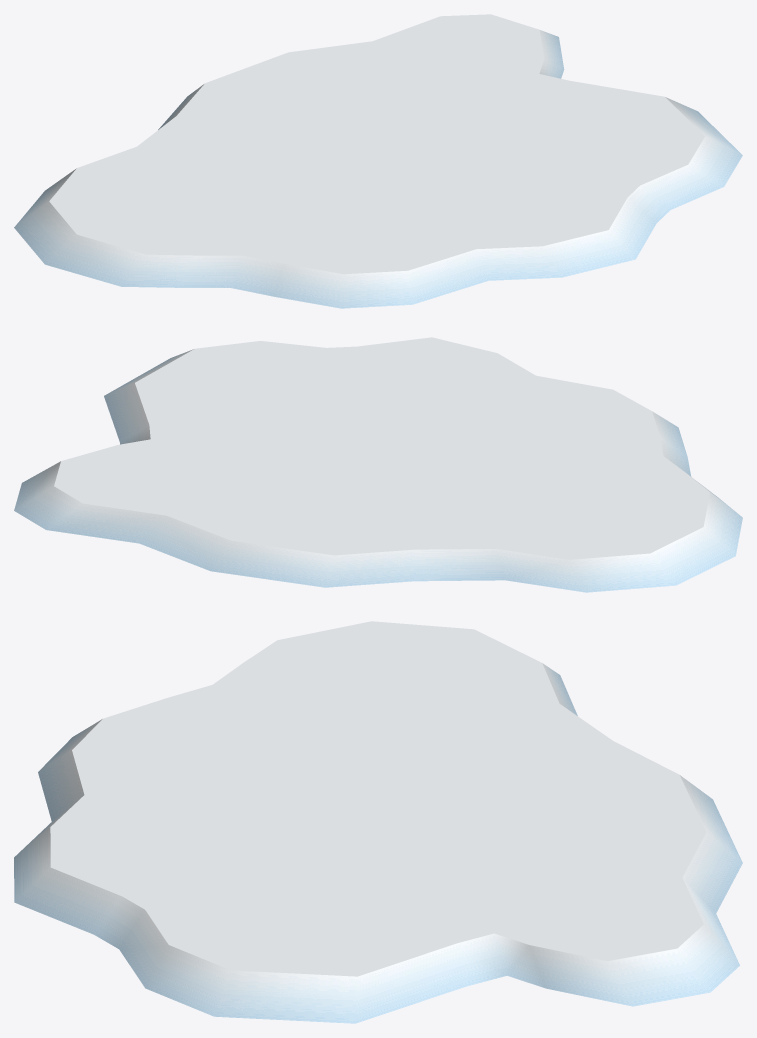
Rendered from snow_flat_large.glb.
3 views of the same model, one above another, from view 1: azimuth 30°, elevation 25°; view 2: azimuth 150°, elevation 25°; view 3: azimuth 270°, elevation 25° (orthographic). The views are drawn at different scales.
Visible parts, largest first — view 1: snow-flat-large; view 2: snow-flat-large; view 3: snow-flat-large.
Part boxes in pixels (box(x1,y1,x2,y2)): snow-flat-large: box(14, 14, 742, 308); snow-flat-large: box(14, 337, 742, 592); snow-flat-large: box(14, 621, 742, 1023).
Bounding box in the file's own units: 3.09 × 0.1 × 2.41.
1 material, 1 textured.
